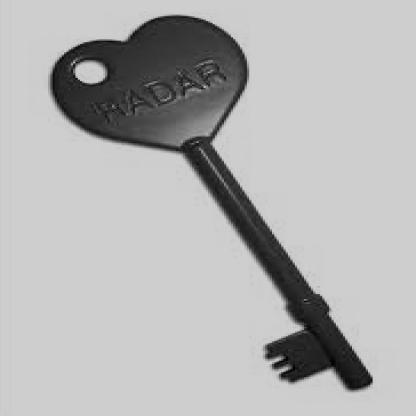key: (54, 2, 396, 395)
